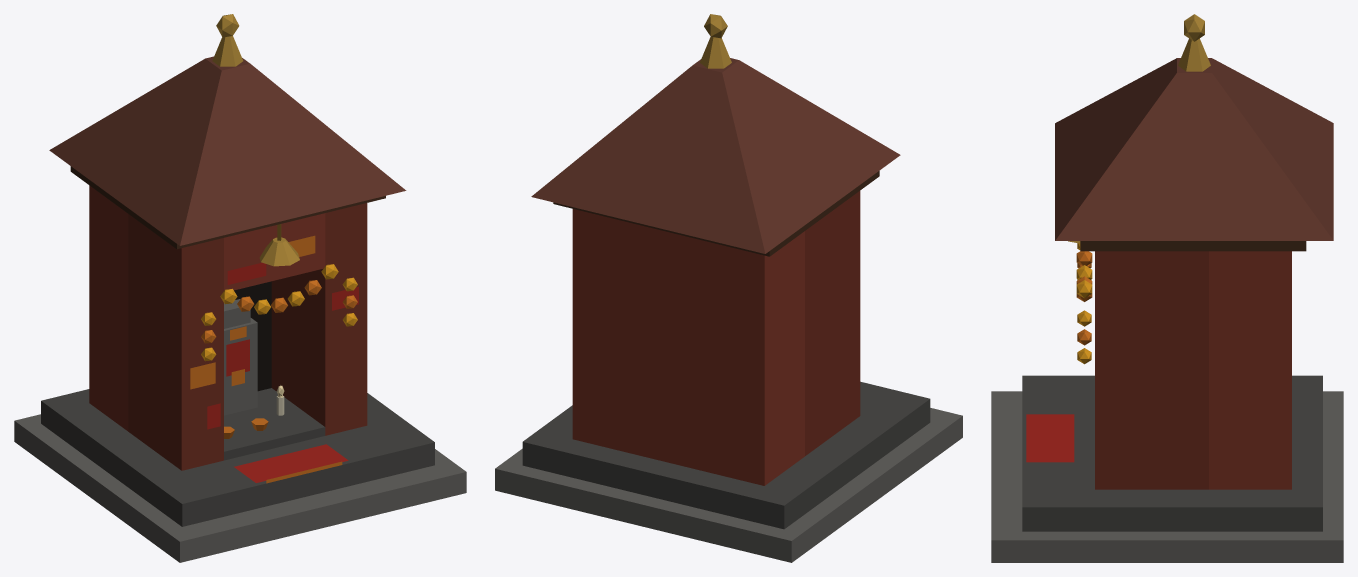
The model's file is shrine.glb.
3 views of the same model, side by side, from view 1: azimuth 30°, elevation 25°; view 2: azimuth 150°, elevation 25°; view 3: azimuth 270°, elevation 25° (orthographic). The views are drawn at different scales.
Visible parts, largest first — view 1: shrine; view 2: shrine; view 3: shrine.
Part boxes in pixels (bbox=[...]): shrine: bbox=[14, 14, 466, 562]; shrine: bbox=[495, 14, 962, 562]; shrine: bbox=[991, 14, 1343, 562].
Bounding box in the file's own units: 1.7 × 2.51 × 1.7.
